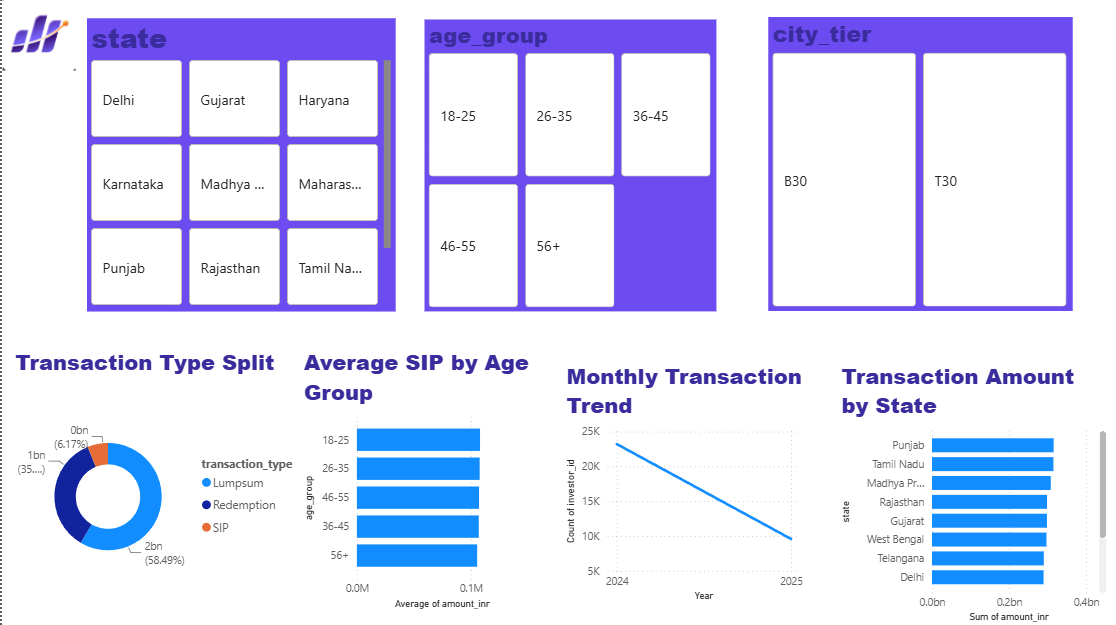

Layout of this report page (visuals, bound fields, positions):
{"tool":"powerbi","page":{"name":"Page 3","canvas":[1280,720],"ordinal":2},"visuals":[{"type":"clusteredBarChart","title":"Transaction Amount by State","fields":{"Category":["08_investor_transactions.state"],"Y":["Sum(08_investor_transactions.amount_inr)"]},"box":[954.3,415.7,312.9,304.3],"z":0},{"type":"donutChart","title":"Transaction Type Split","fields":{"Y":["Sum(08_investor_transactions.amount_inr)"],"Category":["08_investor_transactions.transaction_type"]},"box":[9.6,400.7,330.7,308.7],"z":1000},{"type":"clusteredBarChart","title":"Average SIP by Age Group","fields":{"Category":["08_investor_transactions.age_group"],"Y":["Avg(08_investor_transactions.amount_inr)"]},"box":[340,400,280,304.3],"z":2000},{"type":"lineChart","title":"Monthly Transaction Trend","fields":{"Category":["08_investor_transactions.transaction_date.Variation.Date Hierarchy.Year","08_investor_transactions.transaction_date.Variation.Date Hierarchy.Quarter","08_investor_transactions.transaction_date.Variation.Date Hierarchy.Month","08_investor_transactions.transaction_date.Variation.Date Hierarchy.Day"],"Y":["CountNonNull(08_investor_transactions.investor_id)"]},"box":[640,415.7,280,280],"z":3000},{"type":"advancedSlicerVisual","fields":{"Values":["08_investor_transactions.state"]},"box":[97.4,24.7,352.7,334.8],"z":4000},{"type":"advancedSlicerVisual","fields":{"Values":["08_investor_transactions.age_group"]},"box":[482.4,25.9,333.6,333.6],"z":5000},{"type":"advancedSlicerVisual","fields":{"Values":["08_investor_transactions.city_tier"]},"box":[875.5,23.3,347.9,336.2],"z":6000},{"type":"image","box":[0,0,85.1,83.7],"z":6001}]}

Visuals, with their boxes in screenshot pixels (x1, y1, x2, y2), scaled from the page's 1280x720 canvas onto the 1116x625 screenshot:
"Transaction Amount by State" clusteredBarChart: select_region(832, 361, 1105, 624)
"Transaction Type Split" donutChart: select_region(8, 348, 297, 616)
"Average SIP by Age Group" clusteredBarChart: select_region(296, 347, 541, 611)
"Monthly Transaction Trend" lineChart: select_region(558, 361, 802, 604)
advancedSlicerVisual - 08_investor_transactions.state: select_region(85, 21, 392, 312)
advancedSlicerVisual - 08_investor_transactions.age_group: select_region(421, 22, 711, 312)
advancedSlicerVisual - 08_investor_transactions.city_tier: select_region(763, 20, 1067, 312)
image: select_region(0, 0, 74, 73)
